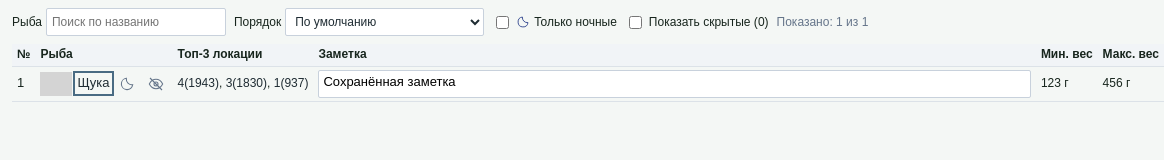
uses six ordered columns, number/count-only locations, and actions inside the Note cell
Expected: the column headings read "№", "Рыба", "Топ-3 локации", "Заметка", "Мин. вес", "Макс. вес", in this order, top-left (12, 44), bottom-right (35, 66); top-left (35, 44), bottom-right (173, 66); top-left (173, 44), bottom-right (313, 66); top-left (313, 44), bottom-right (1036, 66); top-left (1036, 44), bottom-right (1098, 66); top-left (1098, 44), bottom-right (1163, 66)
Expected: the list named "Топ локаций — Щука" reads "4(1943) , 3(1830) , 1(937)", top-left (178, 76), bottom-right (308, 91)
Press Tab
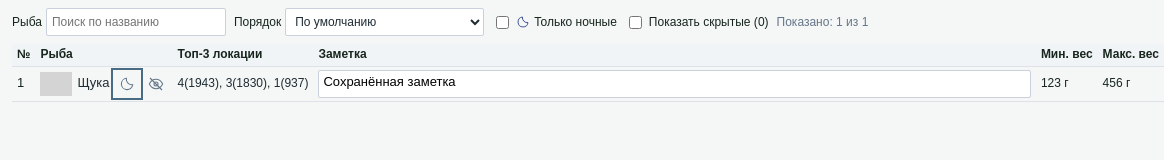
Press Tab
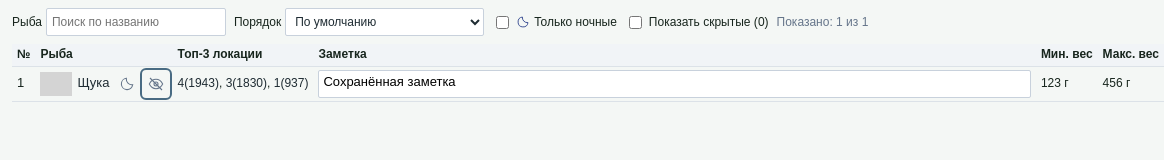
Press Tab
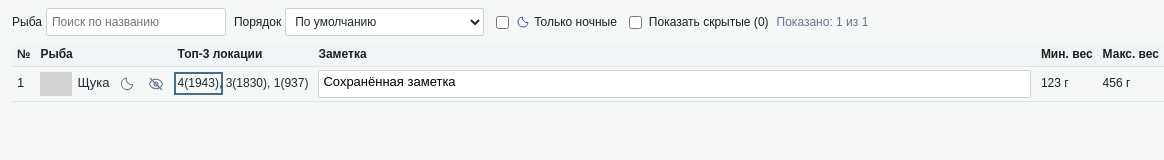
Type " черновик" into the text box named "Заметка — Щука".
click(675, 84); type(" черновик")  # box top-left (318, 70), bottom-right (1031, 98)
Press Tab
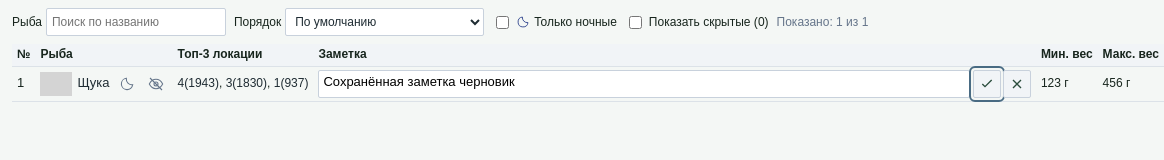
Press Tab
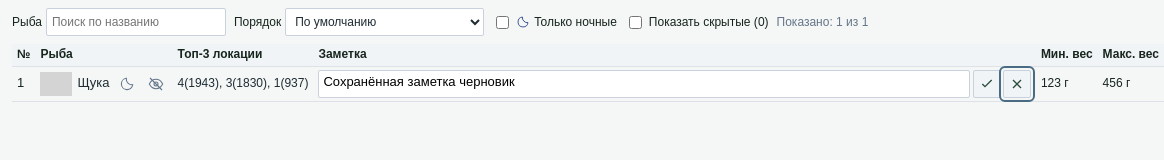
Press Enter
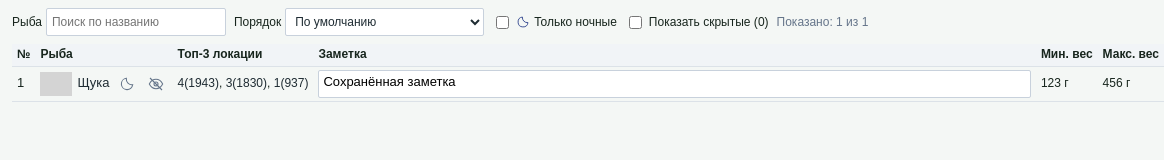
Now the text box named "Заметка — Щука" holds "Сохранённая заметка", box top-left (318, 70), bottom-right (1031, 98)
